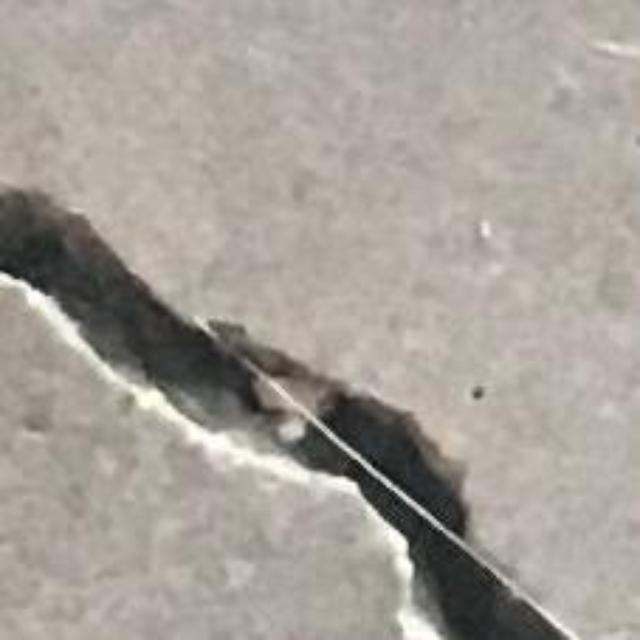crack: (0, 189, 577, 639)
